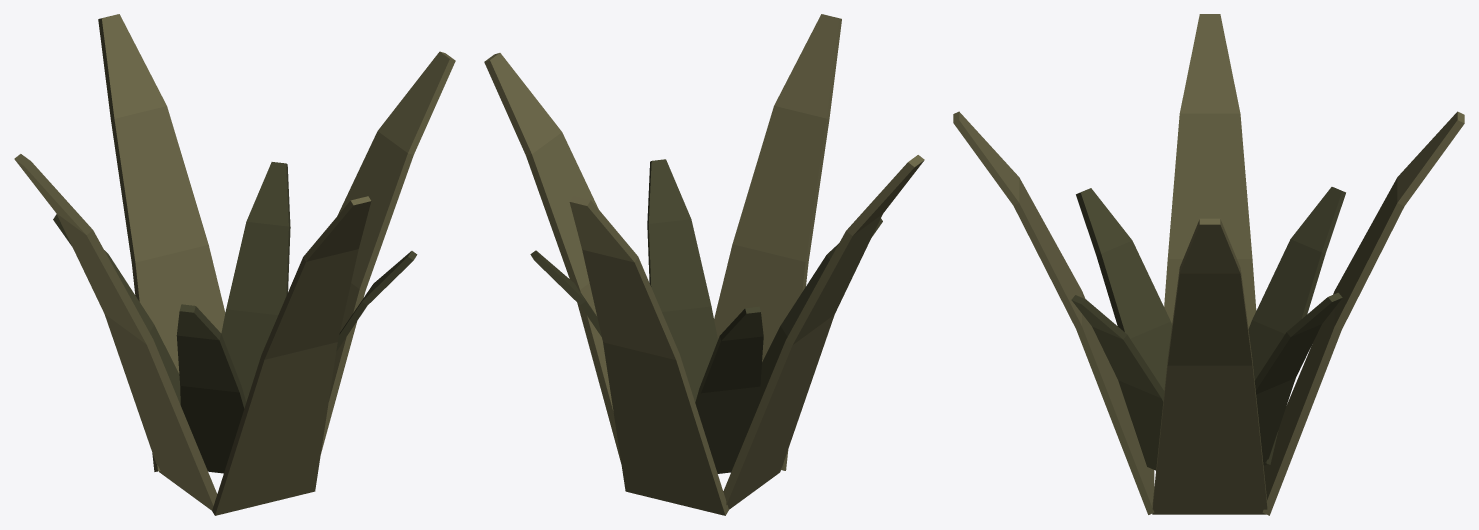
File: trawa1.fbx
The picture shows the model from 3 angles, left to right: view 1: azimuth 30°, elevation 25°; view 2: azimuth 150°, elevation 25°; view 3: azimuth 270°, elevation 25°; orthographic projection.
Visible parts, largest first — view 1: Plane.006; view 2: Plane.006; view 3: Plane.006.
Boxes of the visible parts, box(x1,y1,x2,y2) form: Plane.006: box(14, 14, 455, 515); Plane.006: box(484, 14, 924, 515); Plane.006: box(953, 14, 1464, 515).
Bounding box in the file's own units: 0.5235 × 0.4353 × 0.5368.
